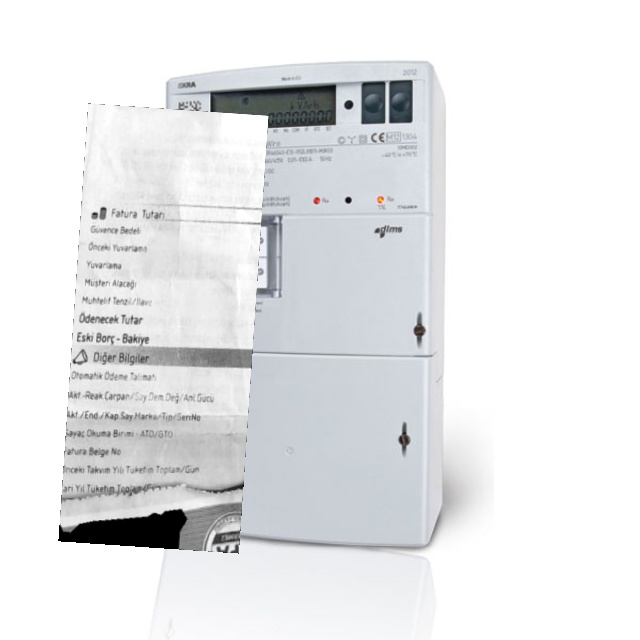electricity-bill: (58, 102, 269, 554)
